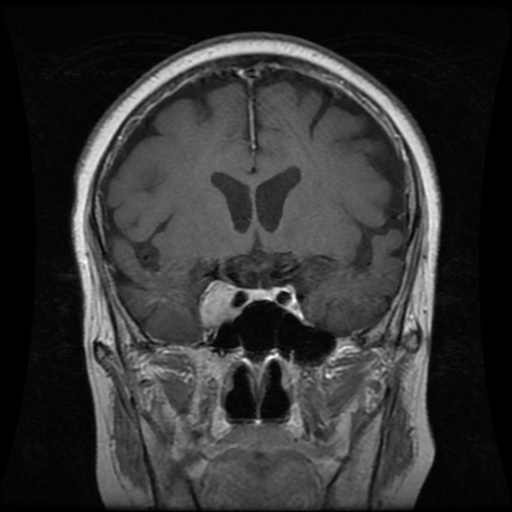meningioma: (197, 280, 235, 325)
